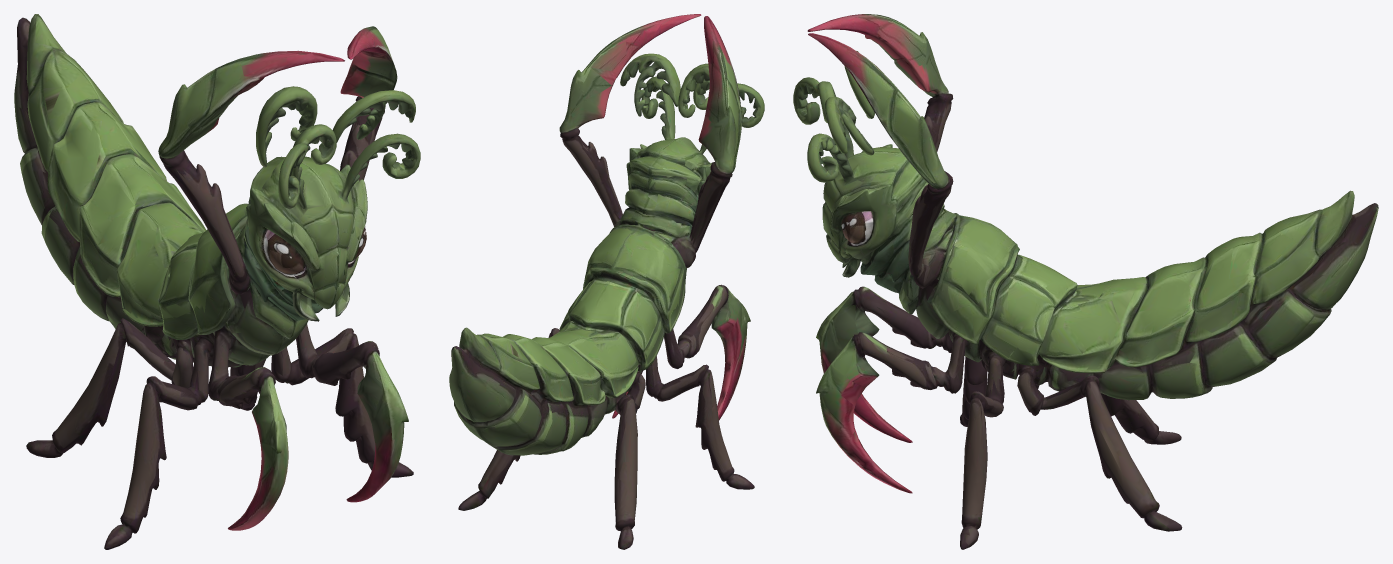
The picture shows the model from 3 angles, left to right: view 1: azimuth 30°, elevation 25°; view 2: azimuth 150°, elevation 25°; view 3: azimuth 270°, elevation 25°; orthographic projection. The views are drawn at different scales.
Parts seen in each view (by area): view 1: Mesh_0; view 2: Mesh_0; view 3: Mesh_0.
Part boxes in pixels (x1,y1,x2,y2): Mesh_0: (14,14,420,549); Mesh_0: (449,14,764,549); Mesh_0: (793,14,1378,549).
Bounding box in the file's own units: 1.01 × 1.63 × 1.9.
1 material, 1 textured.
